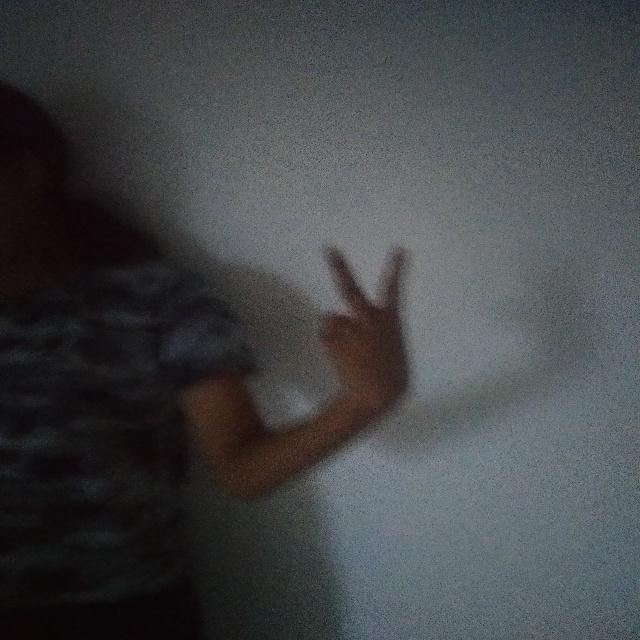Reversed Victory: (303, 231, 431, 411)
